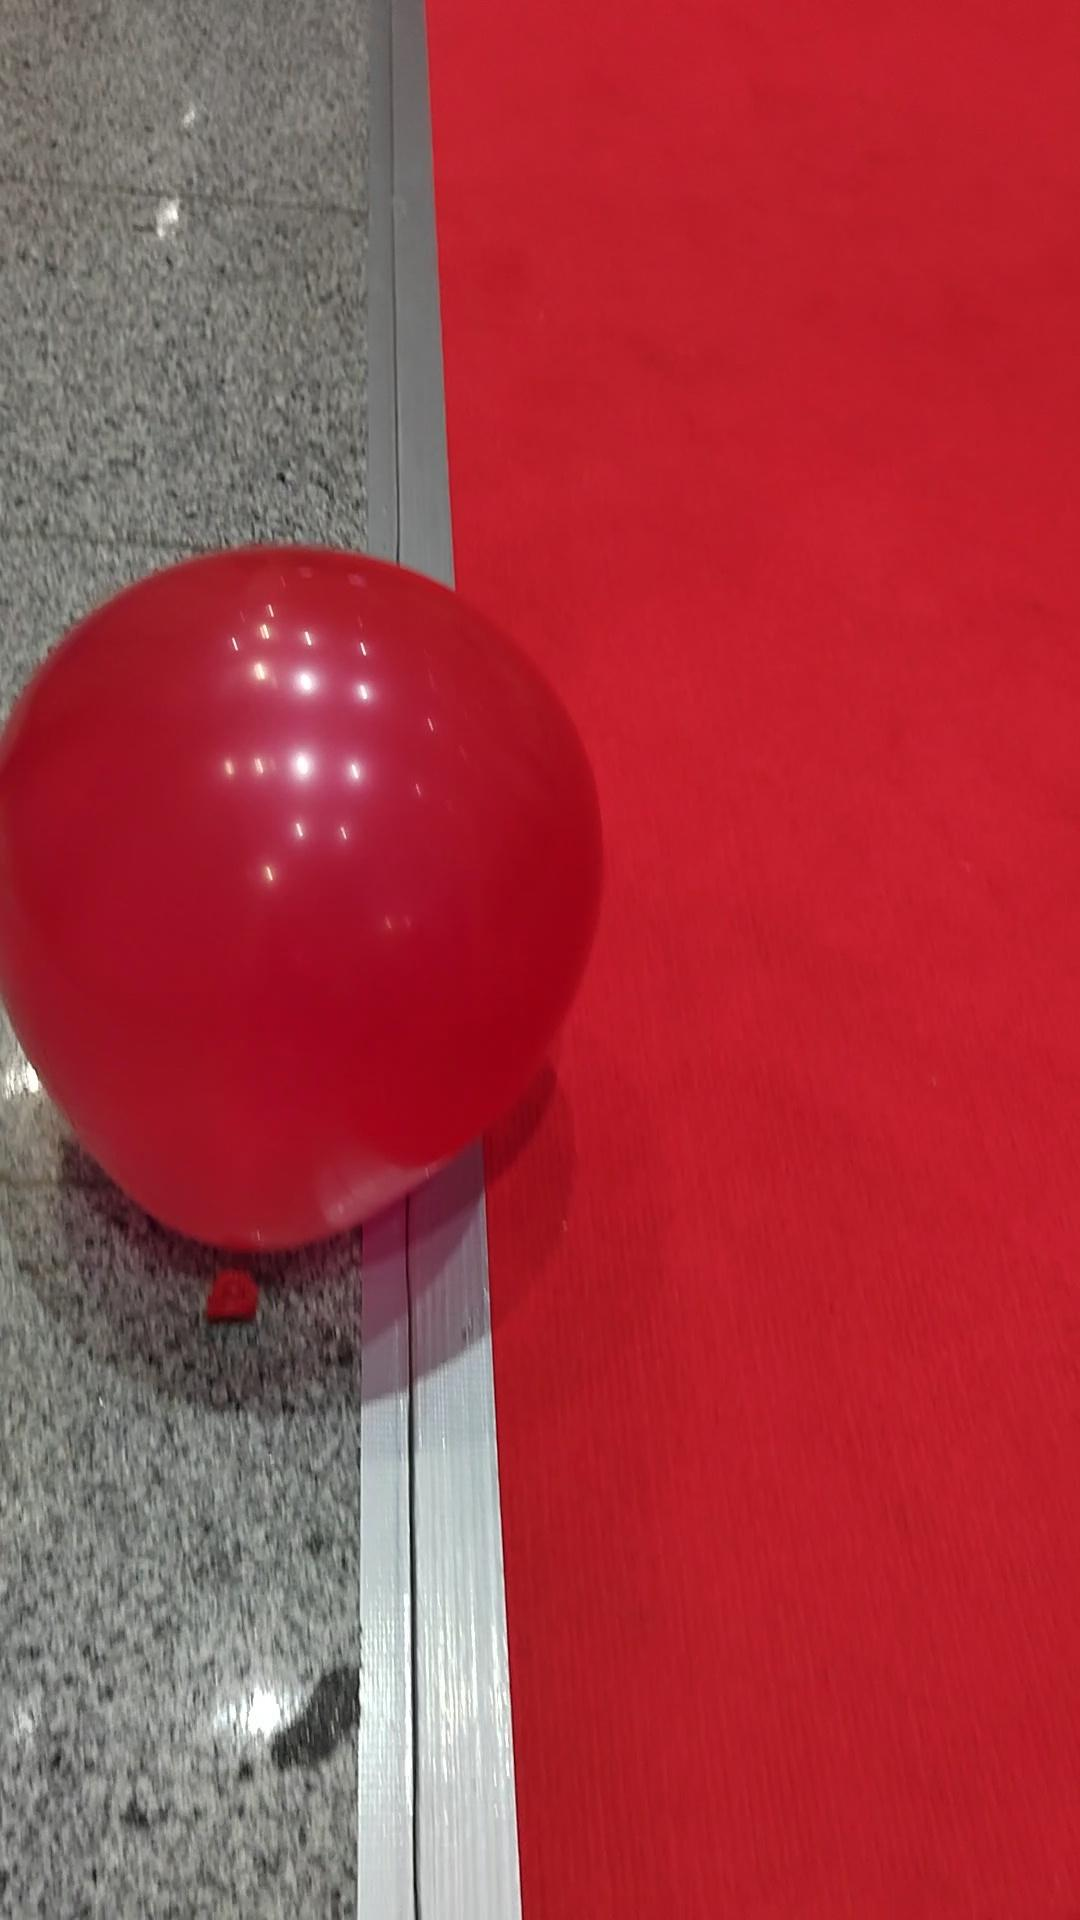red: (4, 529, 604, 1244)
